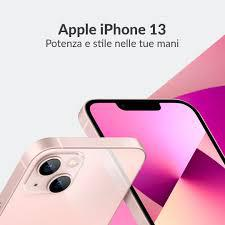Smartphone: (82, 94, 225, 225), (5, 139, 144, 225)
